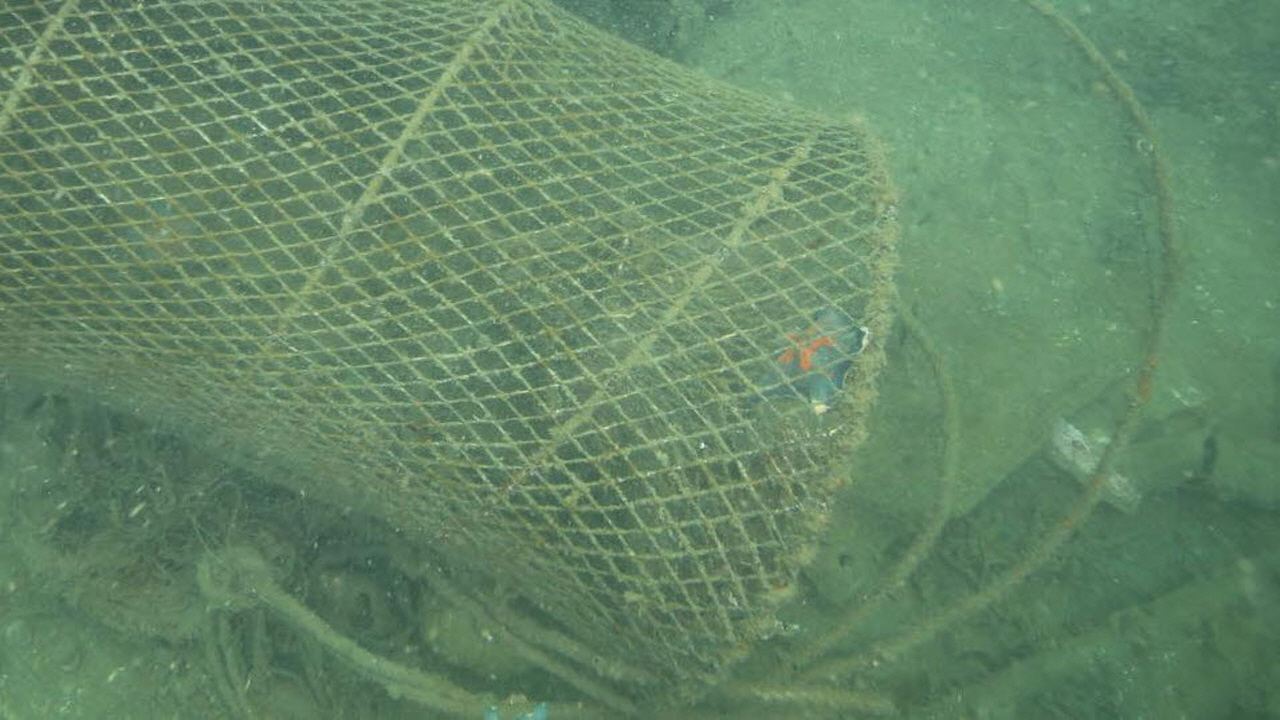bundle of ropes: (757, 0, 1173, 689), (196, 542, 509, 720)
spring fish trap: (0, 0, 899, 711)
